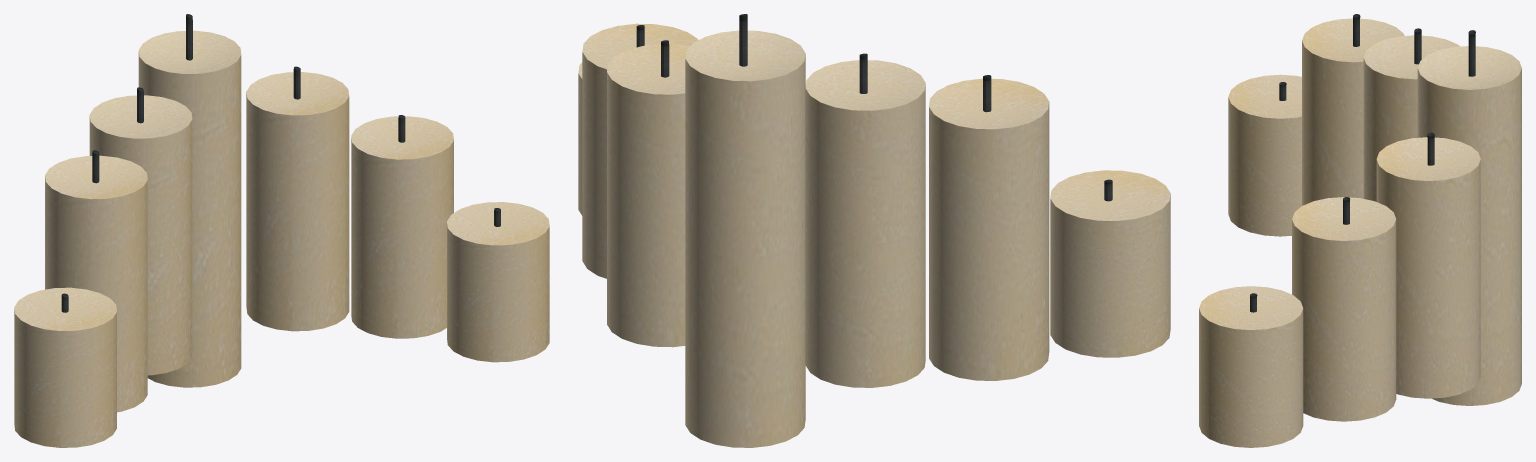
The model's file is candlesNew.fbx.
3 renders of one model, left to right at view 1: azimuth 30°, elevation 25°; view 2: azimuth 150°, elevation 25°; view 3: azimuth 270°, elevation 25°, orthographic. The views are drawn at different scales.
Visible parts, largest first — view 1: polySurface93; view 2: polySurface93; view 3: polySurface93.
Boxes of the visible parts, x1,y1,x2,y2 form: polySurface93: (14,14,549,447); polySurface93: (578,14,1170,447); polySurface93: (1199,14,1521,447).
Bounding box in the file's own units: 2.23 × 1.47 × 1.22.
2 materials, 2 textured.
